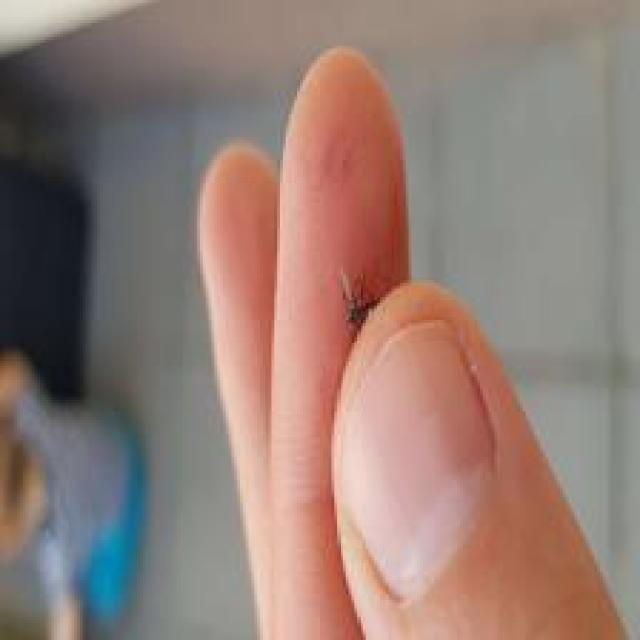Aedes albopictus: (337, 269, 383, 337)
